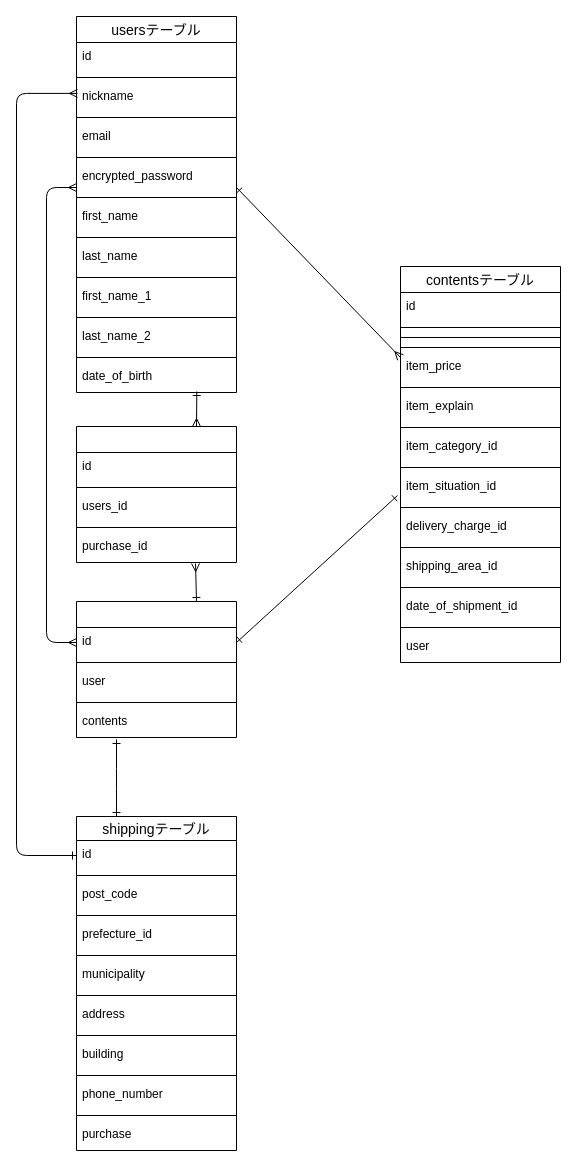
The diagram is 577 pixels wide and 1167 high, and some of its shapes have lost their labels. Each missing label, with the box of its shape:
purchasesテーブル: (76, 600, 236, 738)
user-purchaseテーブル: (76, 426, 236, 562)
